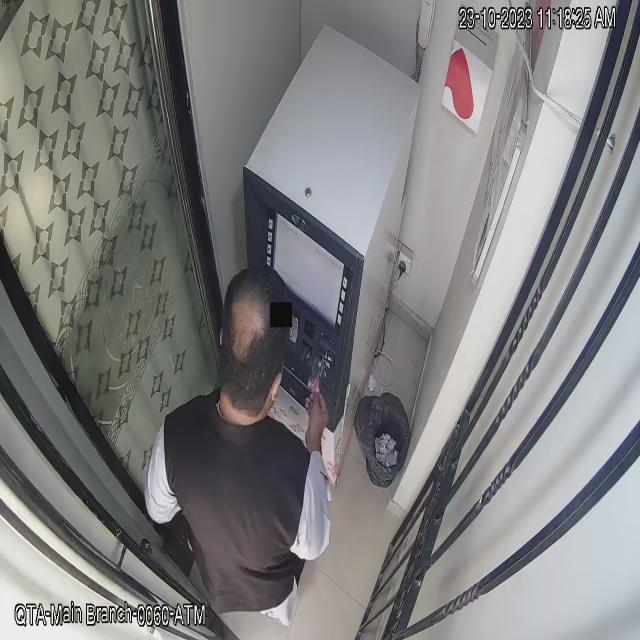atm-card: (303, 347, 331, 405)
